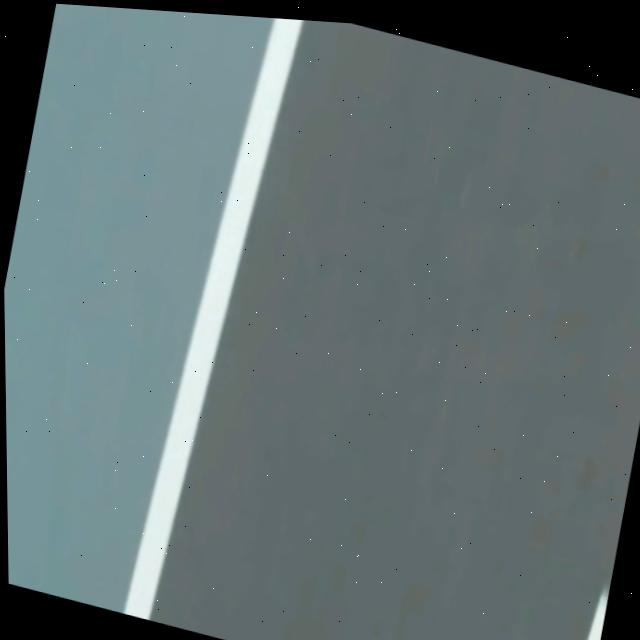center: (586, 590, 609, 640)
left: (124, 18, 303, 620)
